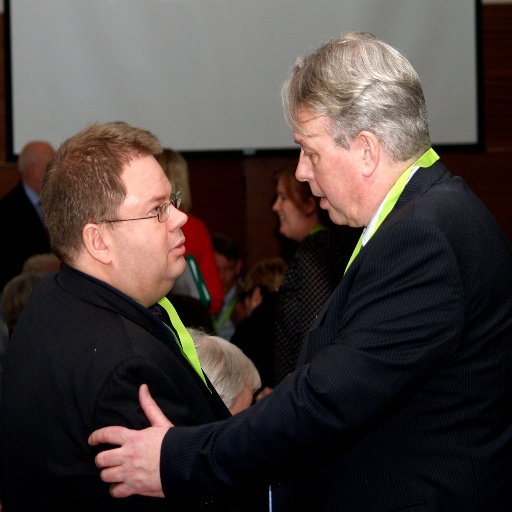hand: (88, 400, 180, 494), (256, 386, 274, 402)
